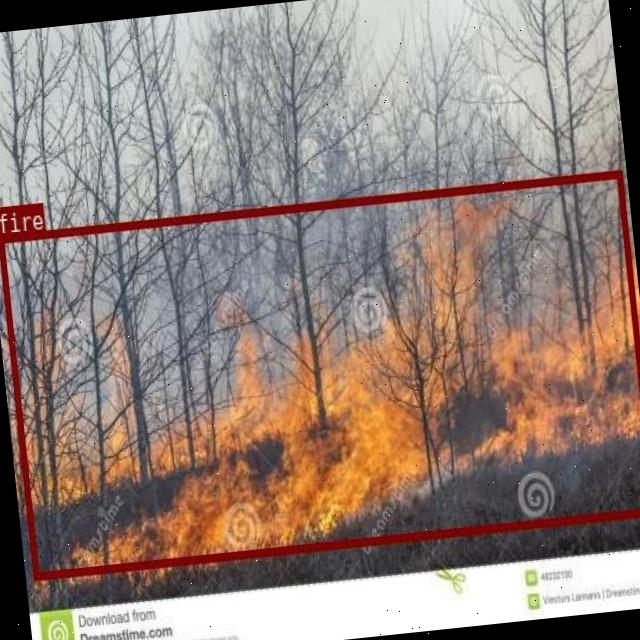fire: (0, 167, 640, 578)
